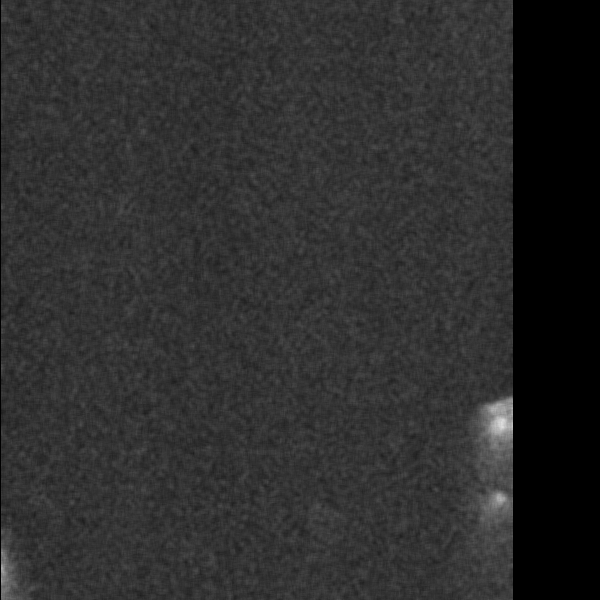spark: (487, 396, 516, 479), (484, 490, 511, 520)
